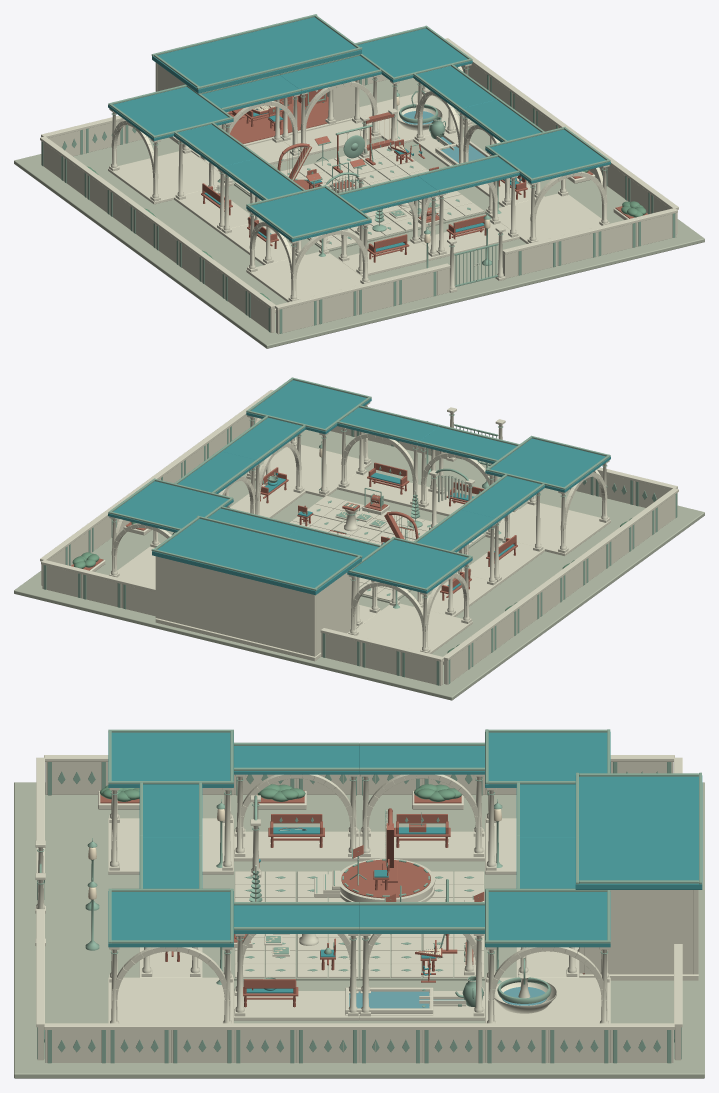
Rendered from enchanted-harp-garden-and-music-sanctuar-5f06b16f-starter-scene__30441.glb.
3 views of the same model, one above another, from view 1: azimuth 30°, elevation 25°; view 2: azimuth 150°, elevation 25°; view 3: azimuth 270°, elevation 25° (orthographic). The views are drawn at different scales.
Visible parts, largest first — view 1: 000-sanctuary-garden-base/2, 001-roofed-recital-pavilion/2, 005-garden-arcade-corner/0, 004-garden-arcade-corner/0, 002-garden-arcade-corner/0, 005-garden-arcade-corner/1, 004-garden-arcade-corner/1, 002-garden-arcade-corner/1, 003-garden-arcade-corner/1, 008-garden-arcade-straight/0, 009-garden-arcade-straight/0, 007-garden-arcade-straight/0 (+51 smaller); view 2: 000-sanctuary-garden-base/2, 001-roofed-recital-pavilion/1, 001-roofed-recital-pavilion/2, 002-garden-arcade-corner/0, 005-garden-arcade-corner/0, 002-garden-arcade-corner/1, 005-garden-arcade-corner/1, 004-garden-arcade-corner/1, 003-garden-arcade-corner/1, 004-garden-arcade-corner/0, 009-garden-arcade-straight/0, 012-garden-arcade-straight/0 (+43 smaller); view 3: 000-sanctuary-garden-base/2, 001-roofed-recital-pavilion/2, 001-roofed-recital-pavilion/1, 004-garden-arcade-corner/0, 004-garden-arcade-corner/1, 003-garden-arcade-corner/1, 005-garden-arcade-corner/1, 002-garden-arcade-corner/1, 003-garden-arcade-corner/0, 012-garden-arcade-straight/0, 010-garden-arcade-straight/0, 013-garden-arcade-straight/0 (+62 smaller).
Boxes of the visible parts, box(x1,y1,x2,y2) form: 000-sanctuary-garden-base/2: box(14, 78, 704, 348); 001-roofed-recital-pavilion/2: box(152, 17, 361, 93); 005-garden-arcade-corner/0: box(246, 209, 370, 302); 004-garden-arcade-corner/0: box(485, 151, 609, 243); 002-garden-arcade-corner/0: box(108, 108, 233, 204); 005-garden-arcade-corner/1: box(246, 188, 371, 241); 004-garden-arcade-corner/1: box(485, 129, 610, 183); 002-garden-arcade-corner/1: box(108, 86, 233, 140); 003-garden-arcade-corner/1: box(357, 28, 472, 82); 008-garden-arcade-straight/0: box(280, 75, 381, 155); 009-garden-arcade-straight/0: box(419, 176, 519, 258); 007-garden-arcade-straight/0: box(337, 195, 439, 276); 000-sanctuary-garden-base/2: box(14, 429, 704, 700); 001-roofed-recital-pavilion/1: box(155, 556, 358, 661); 001-roofed-recital-pavilion/2: box(152, 519, 361, 595); 002-garden-arcade-corner/0: box(348, 561, 472, 653); 005-garden-arcade-corner/0: box(485, 460, 610, 555); 002-garden-arcade-corner/1: box(347, 539, 472, 593); 005-garden-arcade-corner/1: box(485, 438, 610, 492); 004-garden-arcade-corner/1: box(246, 380, 371, 434); 003-garden-arcade-corner/1: box(108, 481, 233, 532); 004-garden-arcade-corner/0: box(246, 402, 371, 497); 009-garden-arcade-straight/0: box(337, 426, 437, 507); 012-garden-arcade-straight/0: box(463, 489, 544, 584); 000-sanctuary-garden-base/2: box(14, 782, 704, 1078); 001-roofed-recital-pavilion/2: box(575, 775, 702, 889); 001-roofed-recital-pavilion/1: box(577, 890, 698, 980); 004-garden-arcade-corner/0: box(108, 947, 233, 1023); 004-garden-arcade-corner/1: box(108, 891, 233, 947); 003-garden-arcade-corner/1: box(485, 892, 610, 947); 005-garden-arcade-corner/1: box(108, 732, 233, 787); 002-garden-arcade-corner/1: box(485, 732, 610, 787); 003-garden-arcade-corner/0: box(485, 947, 610, 1023); 012-garden-arcade-straight/0: box(234, 774, 359, 861); 010-garden-arcade-straight/0: box(359, 774, 484, 861); 013-garden-arcade-straight/0: box(234, 934, 359, 1020).
Size of the model in its own units: 22 by 3.7 by 22.
